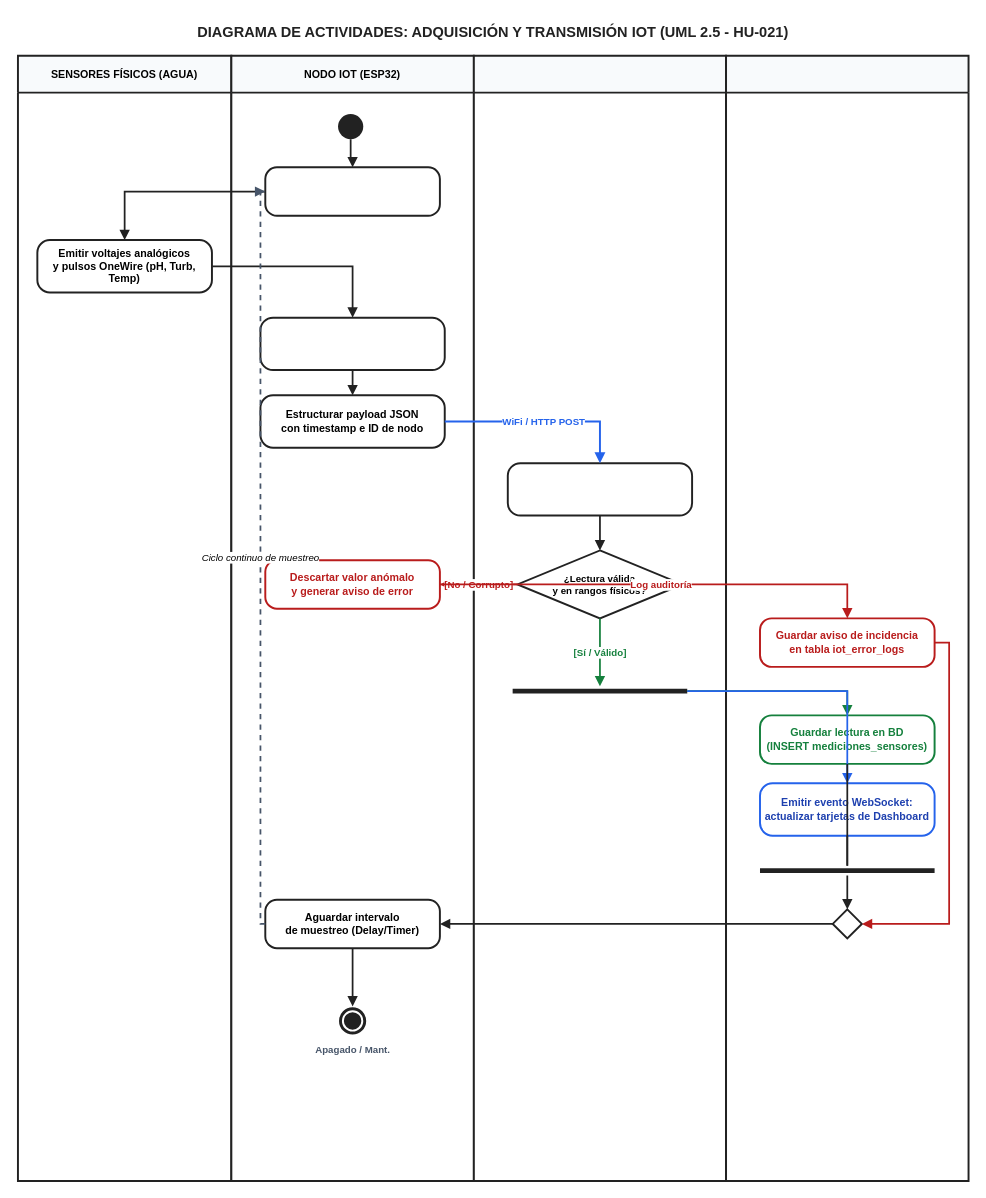
This 986x1198 diagram has some shape labels left out. The box of each missing label's shape, as (x1, y1, x2, y2) in pixels:
BACKEND FASTAPI & VALIDADOR: (472, 54, 727, 1181)
BD POSTGRESQL & DASHBOARD: (725, 54, 969, 1181)
Disparar temporizador periódico de muestreo: (264, 166, 440, 216)
Leer canales ADC y OneWire; convertir a unidades físicas: (259, 316, 445, 371)
Recibir paquete HTTP POST y analizar estructura Pydantic: (506, 462, 693, 516)
